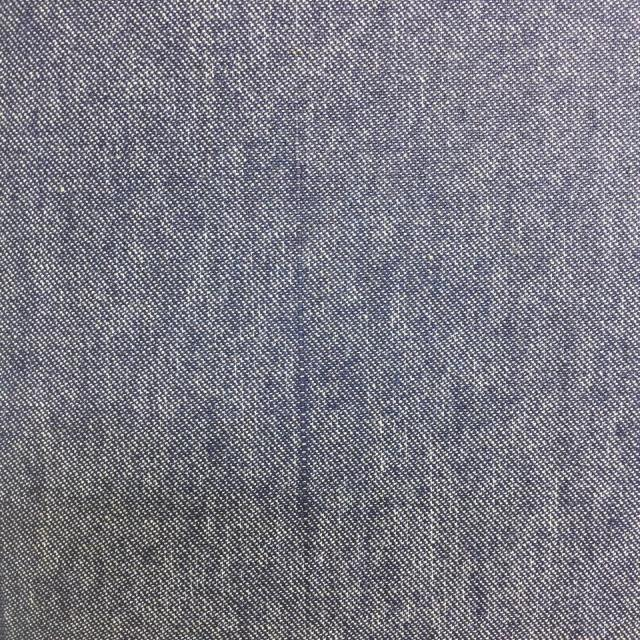Line: (292, 93, 310, 540)
